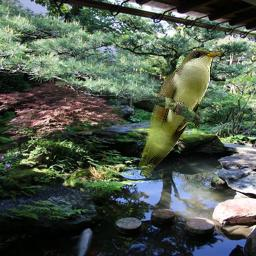Cuckoo: (137, 48, 224, 176)
